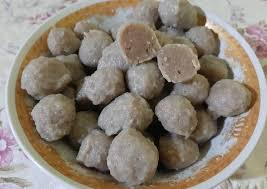bakso: (37, 10, 260, 170)
